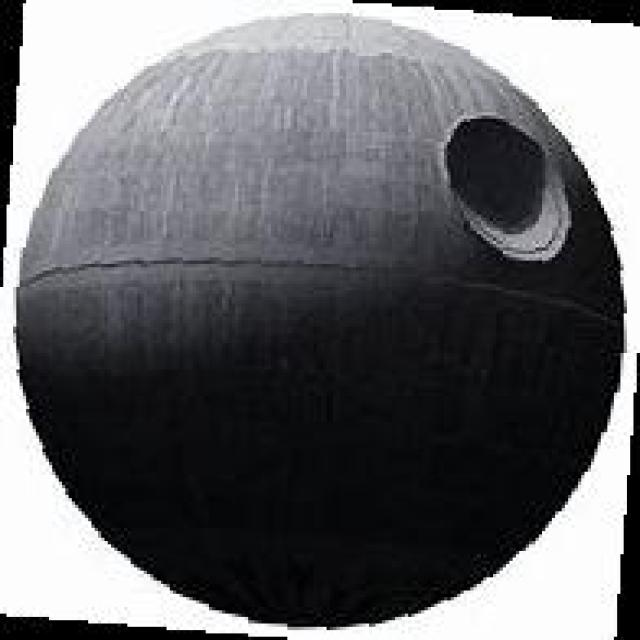Death Star: (20, 19, 607, 636)
